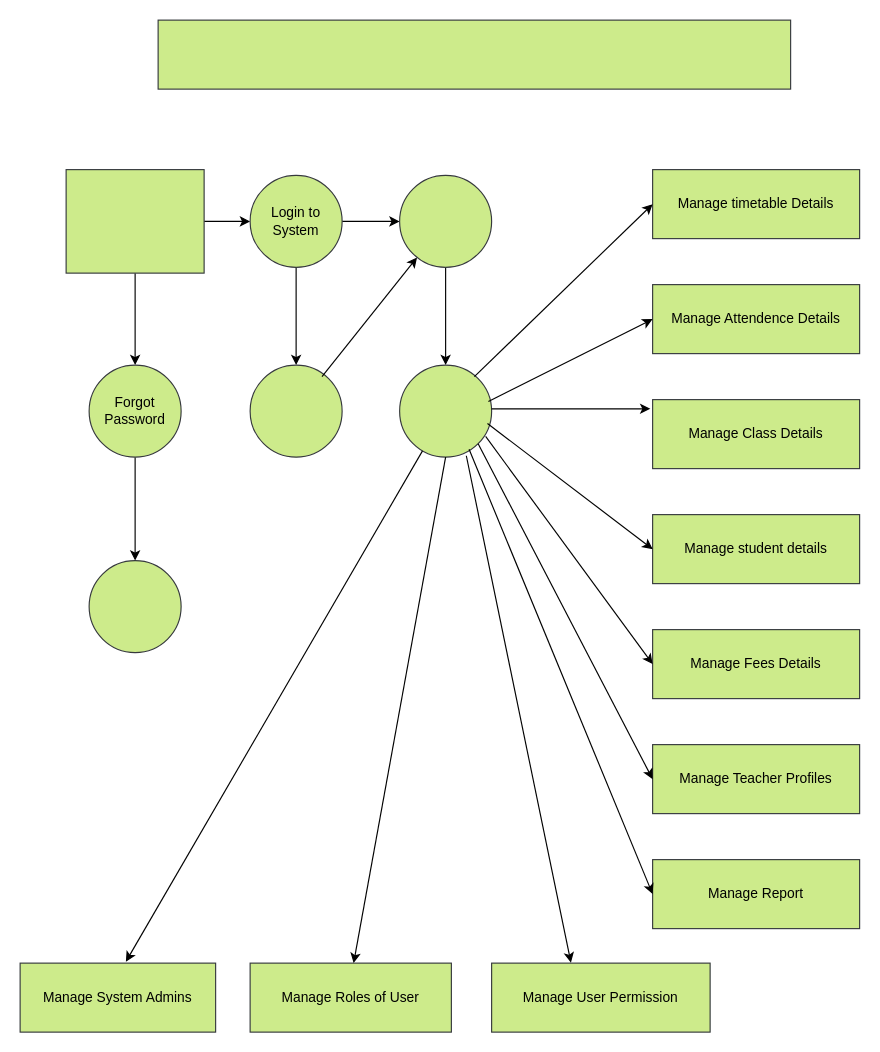
Image size: 880x1052. Some labels were removed from this diagram. Each missing label, with the centre of its shape:
"Admin" belongs at [134,220].
"Check Crendentials" belongs at [295,410].
"Check Roles of Access" belongs at [445,220].
"Manage Modules" belongs at [445,410].
"Send Email to User" belongs at [134,606].
"Student Information System" belongs at [474,54].
